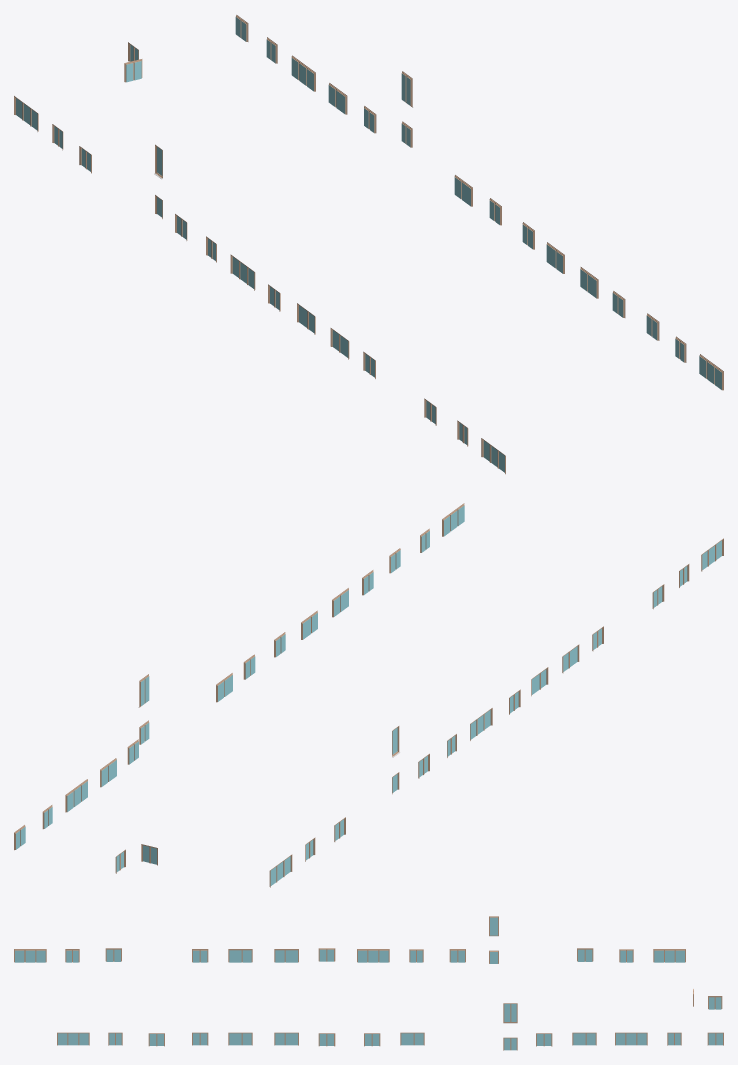
File: window_4.fbx
The picture shows the model from 3 angles, top to bottom: view 1: azimuth 30°, elevation 25°; view 2: azimuth 150°, elevation 25°; view 3: azimuth 270°, elevation 25°; orthographic projection. The views are drawn at different scales.
Visible parts, largest first — view 1: window_4; view 2: window_4; view 3: window_4.
Part boxes in pixels (<box>): window_4: <box>14,15,723,474</box>; window_4: <box>14,503,723,887</box>; window_4: <box>14,916,723,1050</box>.
Size of the model in its own units: 2073 by 511 by 6935.
